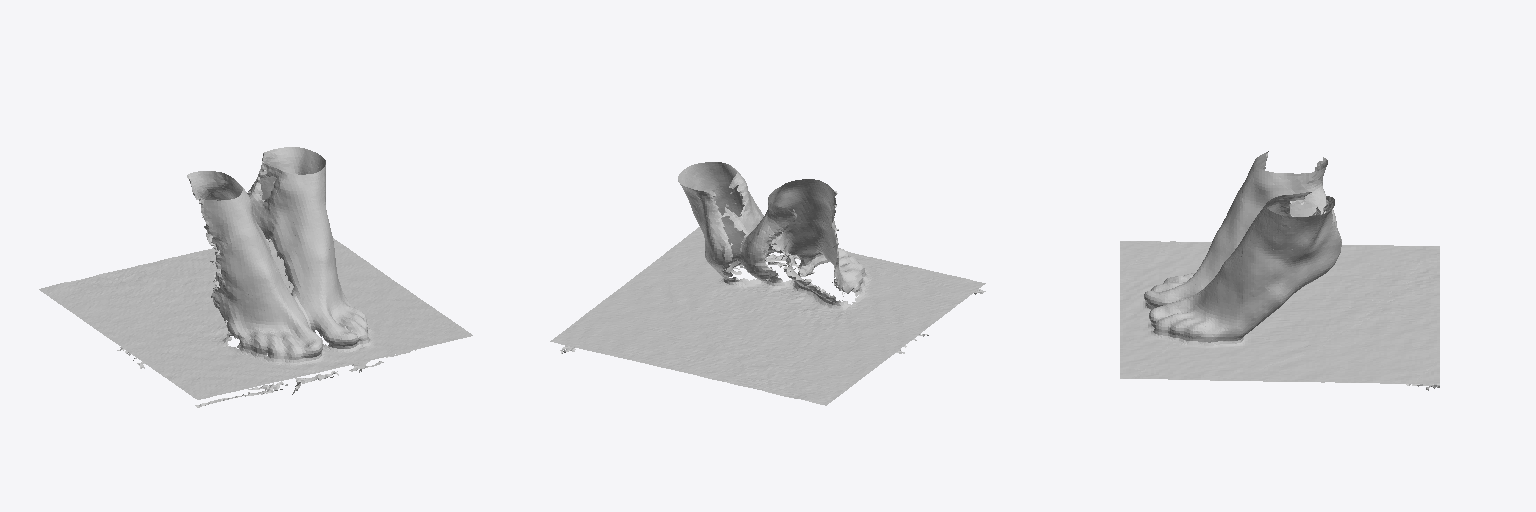
The model's file is niceFeet.obj.
3 renders of one model, left to right at view 1: azimuth 30°, elevation 25°; view 2: azimuth 150°, elevation 25°; view 3: azimuth 270°, elevation 25°, orthographic.
Size of the model in its own units: 0.345 by 0.1797 by 0.345.